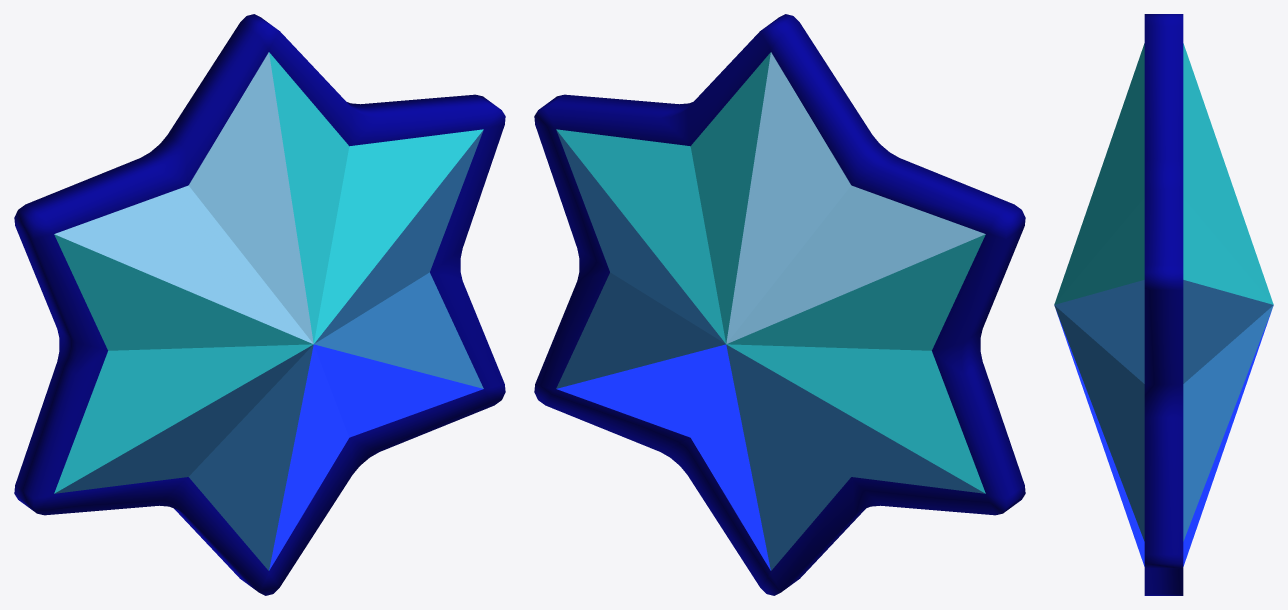
Rendered from Bounty_Star.fbx.
3 views of the same model, side by side, from view 1: azimuth 30°, elevation 25°; view 2: azimuth 150°, elevation 25°; view 3: azimuth 270°, elevation 25° (orthographic). The views are drawn at different scales.
Parts seen in each view (by area): view 1: Bounty_Star; view 2: Bounty_Star; view 3: Bounty_Star.
Boxes of the visible parts, box(x1,y1,x2,y2) form: Bounty_Star: box(14, 14, 505, 595); Bounty_Star: box(534, 14, 1025, 595); Bounty_Star: box(1054, 14, 1273, 595).
Bounding box in the file's own units: 1.52 × 0.5977 × 1.74.
